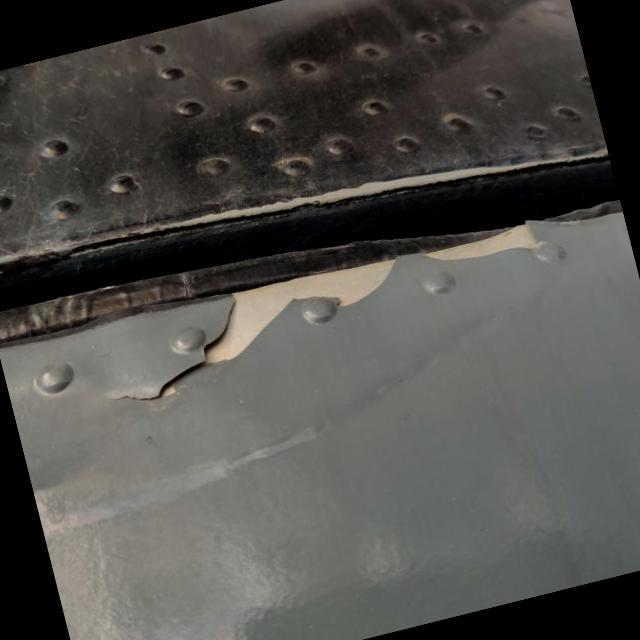paint-off: (71, 192, 578, 450)
